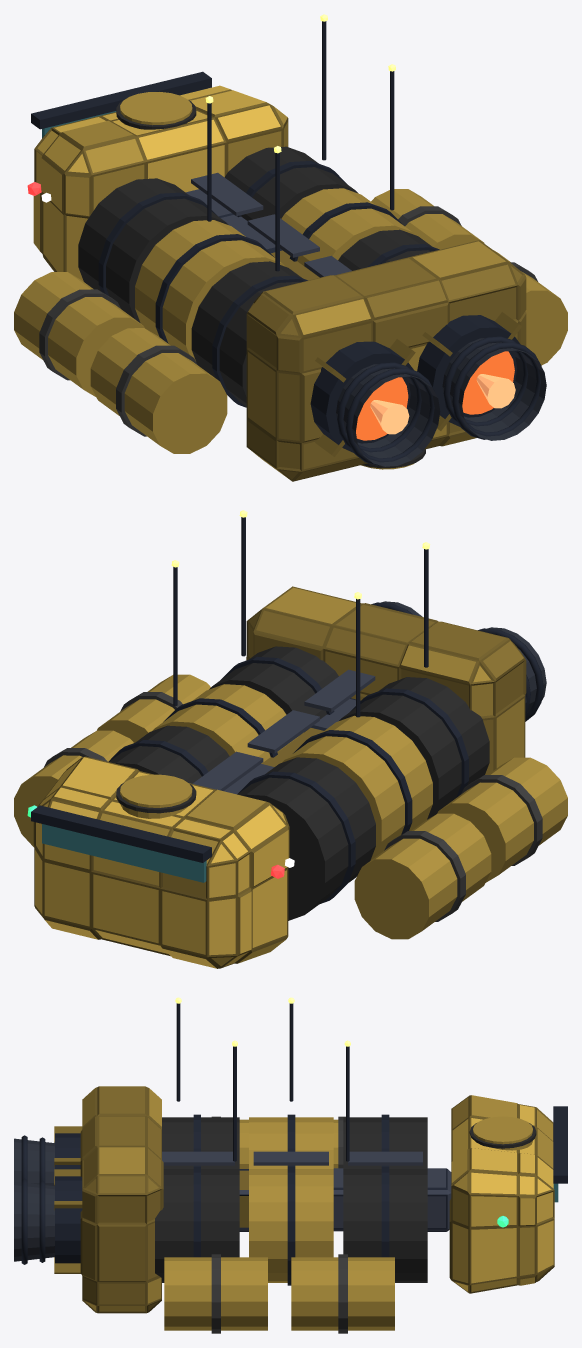
Rendered from bumble.glb.
3 views of the same model, one above another, from view 1: azimuth 30°, elevation 25°; view 2: azimuth 150°, elevation 25°; view 3: azimuth 270°, elevation 25° (orthographic). The views are drawn at different scales.
Visible parts, largest first — view 1: bumble_mesh; view 2: bumble_mesh; view 3: bumble_mesh.
Boxes of the visible parts, left/top/right/bottom form: bumble_mesh: left=14, top=14, right=567, bottom=481; bumble_mesh: left=14, top=510, right=567, bottom=968; bumble_mesh: left=14, top=997, right=567, bottom=1333.
Size of the model in its own units: 6.86 by 5.01 by 9.42.
